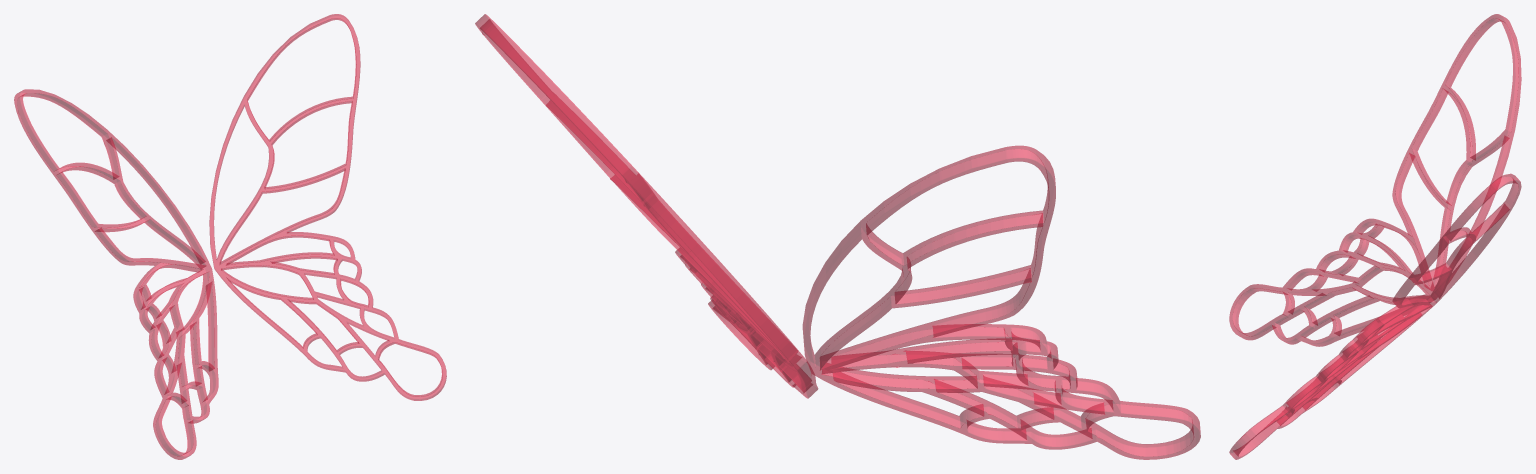
Rendered from asset.glb.
3 views of the same model, side by side, from view 1: azimuth 30°, elevation 25°; view 2: azimuth 150°, elevation 25°; view 3: azimuth 270°, elevation 25° (orthographic). The views are drawn at different scales.
Visible parts, largest first — view 1: 寬尾鳳蝶.svg.026, 寬尾鳳蝶.svg.027; view 2: 寬尾鳳蝶.svg.026, 寬尾鳳蝶.svg.027; view 3: 寬尾鳳蝶.svg.026, 寬尾鳳蝶.svg.027.
Part boxes in pixels (left/top/right/bottom): 寬尾鳳蝶.svg.026: left=14, top=89, right=218, bottom=459; 寬尾鳳蝶.svg.027: left=209, top=14, right=446, bottom=400; 寬尾鳳蝶.svg.026: left=802, top=145, right=1200, bottom=459; 寬尾鳳蝶.svg.027: left=475, top=14, right=818, bottom=398; 寬尾鳳蝶.svg.026: left=1229, top=14, right=1521, bottom=346; 寬尾鳳蝶.svg.027: left=1229, top=173, right=1521, bottom=459.
Bounding box in the file's own units: 1.03 × 0.836 × 0.734.
